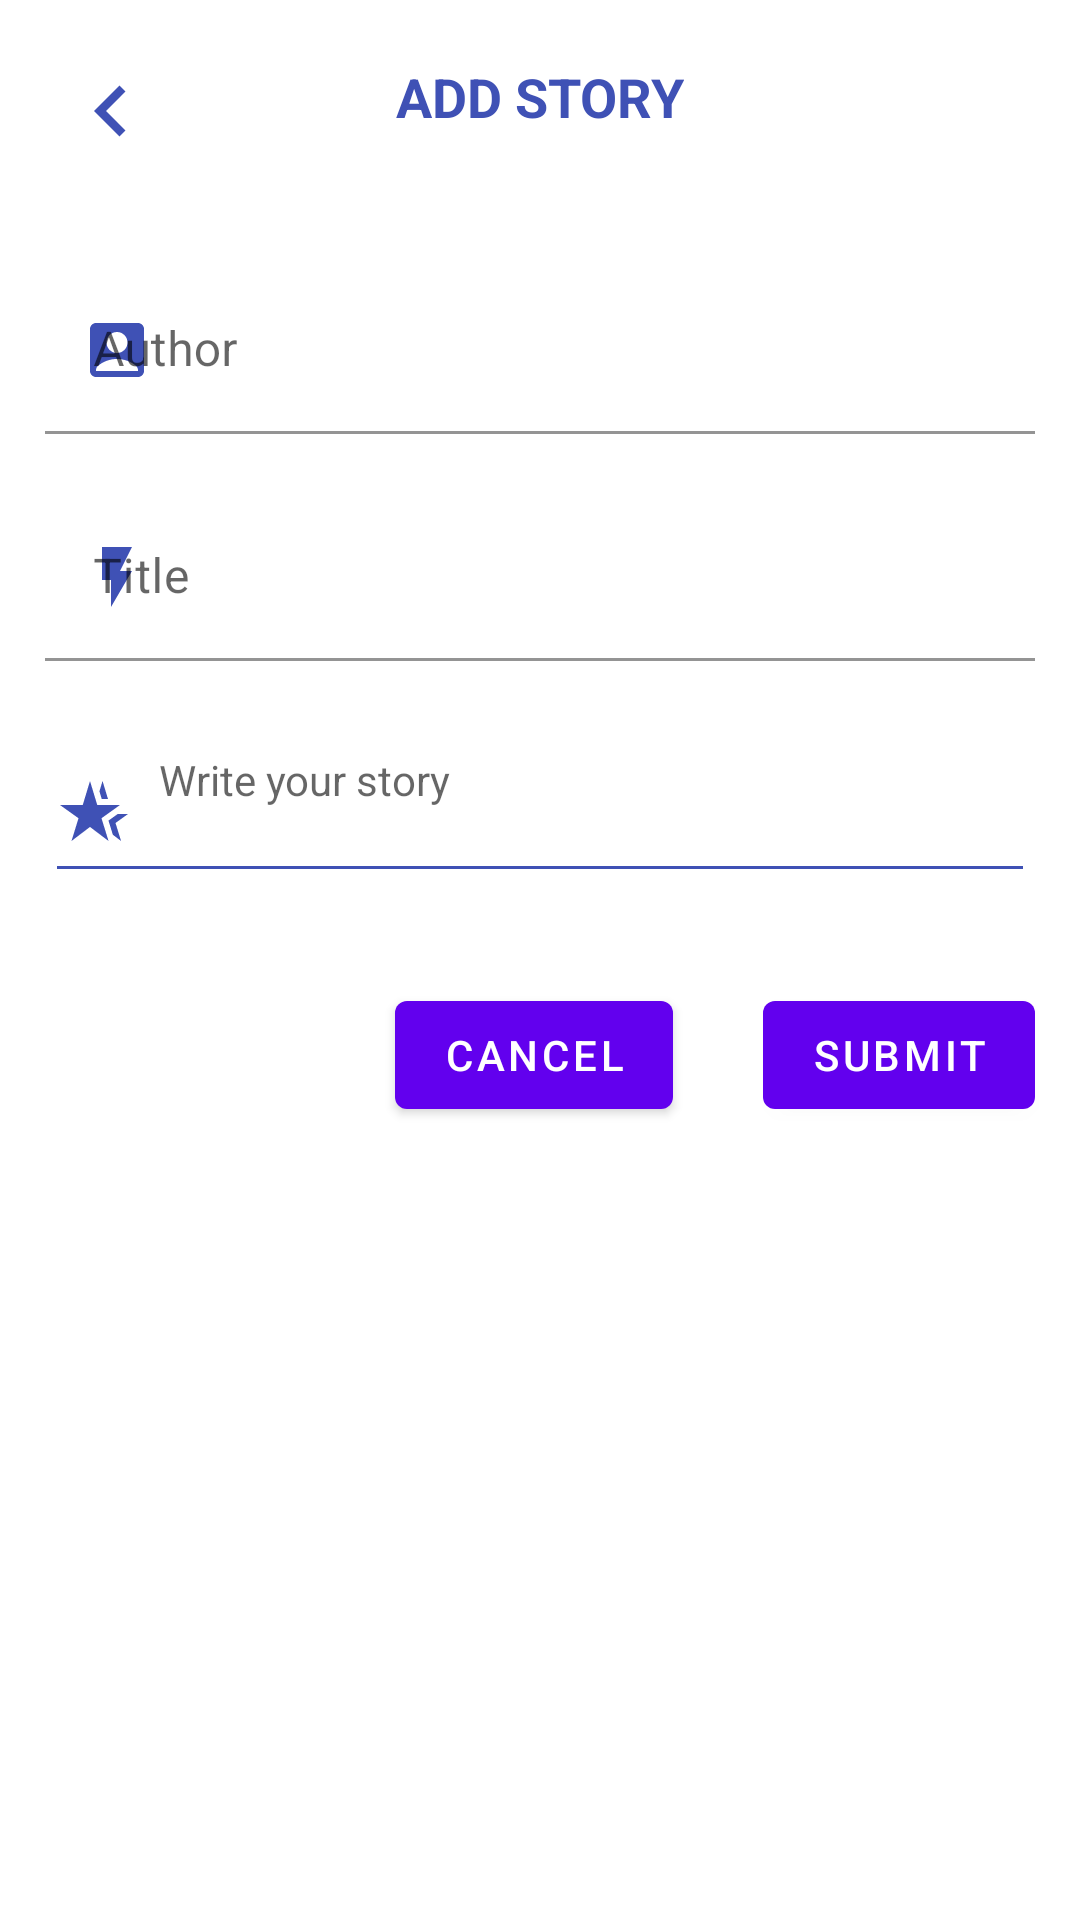

Icons on this 1080w x 1920h Android screen, each with the point to tap as [x,y]:
leftarrow: [110,111]
